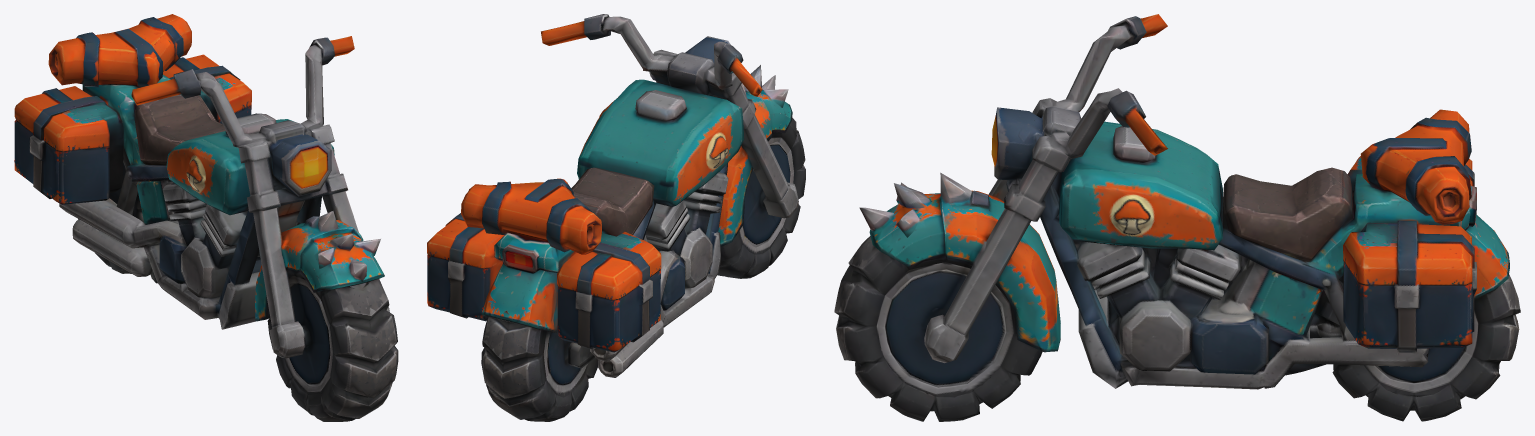
File: motorcycle.glb
The picture shows the model from 3 angles, left to right: view 1: azimuth 30°, elevation 25°; view 2: azimuth 150°, elevation 25°; view 3: azimuth 270°, elevation 25°; orthographic projection. The views are drawn at different scales.
Visible parts, largest first — view 1: tripo_node_f417d170-d9bf-4274-b259-0a1f9d0cacea; view 2: tripo_node_f417d170-d9bf-4274-b259-0a1f9d0cacea; view 3: tripo_node_f417d170-d9bf-4274-b259-0a1f9d0cacea.
Boxes of the visible parts, x1=… form: tripo_node_f417d170-d9bf-4274-b259-0a1f9d0cacea: x1=14, y1=14, x2=398, y2=421; tripo_node_f417d170-d9bf-4274-b259-0a1f9d0cacea: x1=427, y1=14, x2=805, y2=421; tripo_node_f417d170-d9bf-4274-b259-0a1f9d0cacea: x1=834, y1=14, x2=1520, y2=421.
Bounding box in the file's own units: 0.432 × 0.5637 × 0.9804.
1 material, 1 textured.
